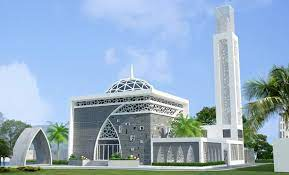Mosque: (55, 3, 247, 165)
